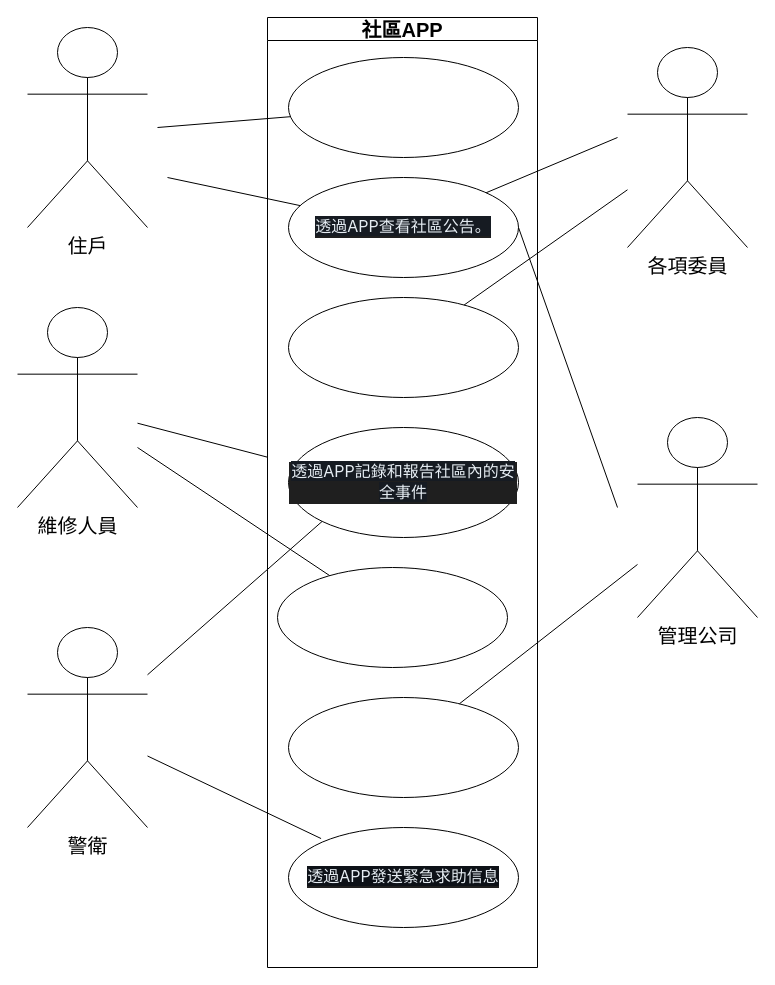
Some shapes in this 775 by 985 pixel diagram are drawn without their labels. The shapes that lost their labels are listed below. From the top down, each one's centre as x and y in pixels, then its label:
point 403,107: 透過APP收到包裹通知
point 403,347: 透過APP發佈社區活動資訊
point 392,617: 透過APP提交維修服務請求
point 403,747: 透過APP進行管理費繳納。
